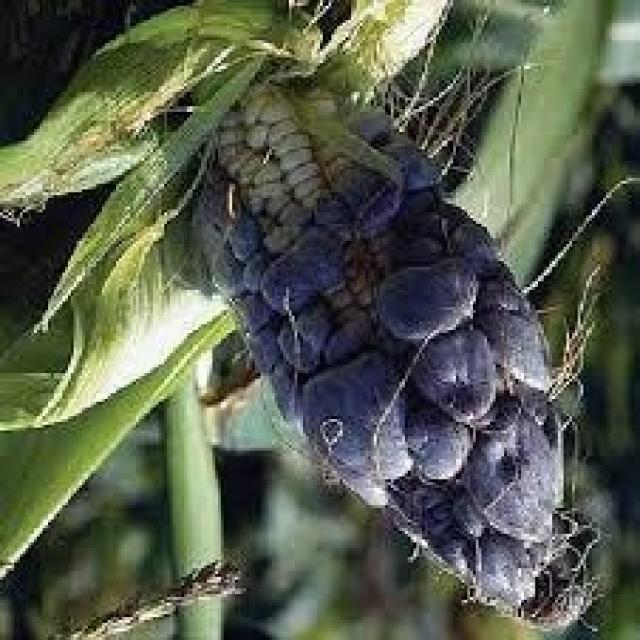Leaf_Scald: (147, 49, 640, 640)
